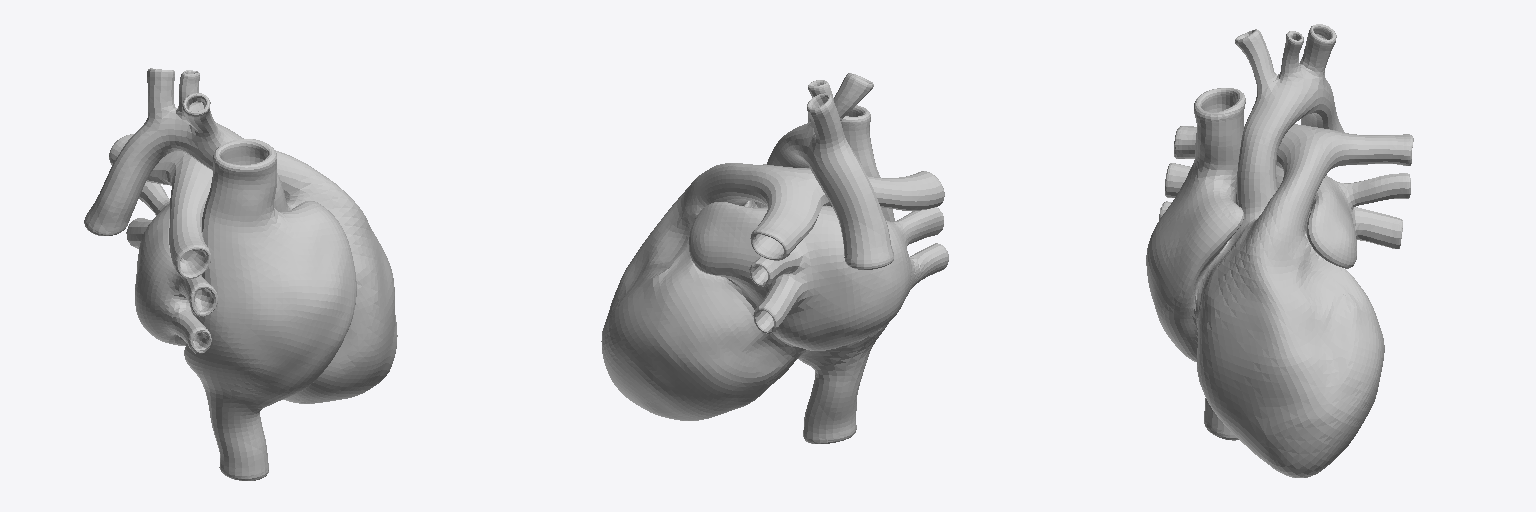
3 views of the same model, side by side, from view 1: azimuth 30°, elevation 25°; view 2: azimuth 150°, elevation 25°; view 3: azimuth 270°, elevation 25° (orthographic).
Parts seen in each view (by area): view 1: HEART_PRO; view 2: HEART_PRO; view 3: HEART_PRO.
Part boxes in pixels (x1,y1,x2,y2): HEART_PRO: (84,68,397,480); HEART_PRO: (601,73,948,443); HEART_PRO: (1146,24,1413,477).
Size of the model in its own units: 649 by 823 by 516.